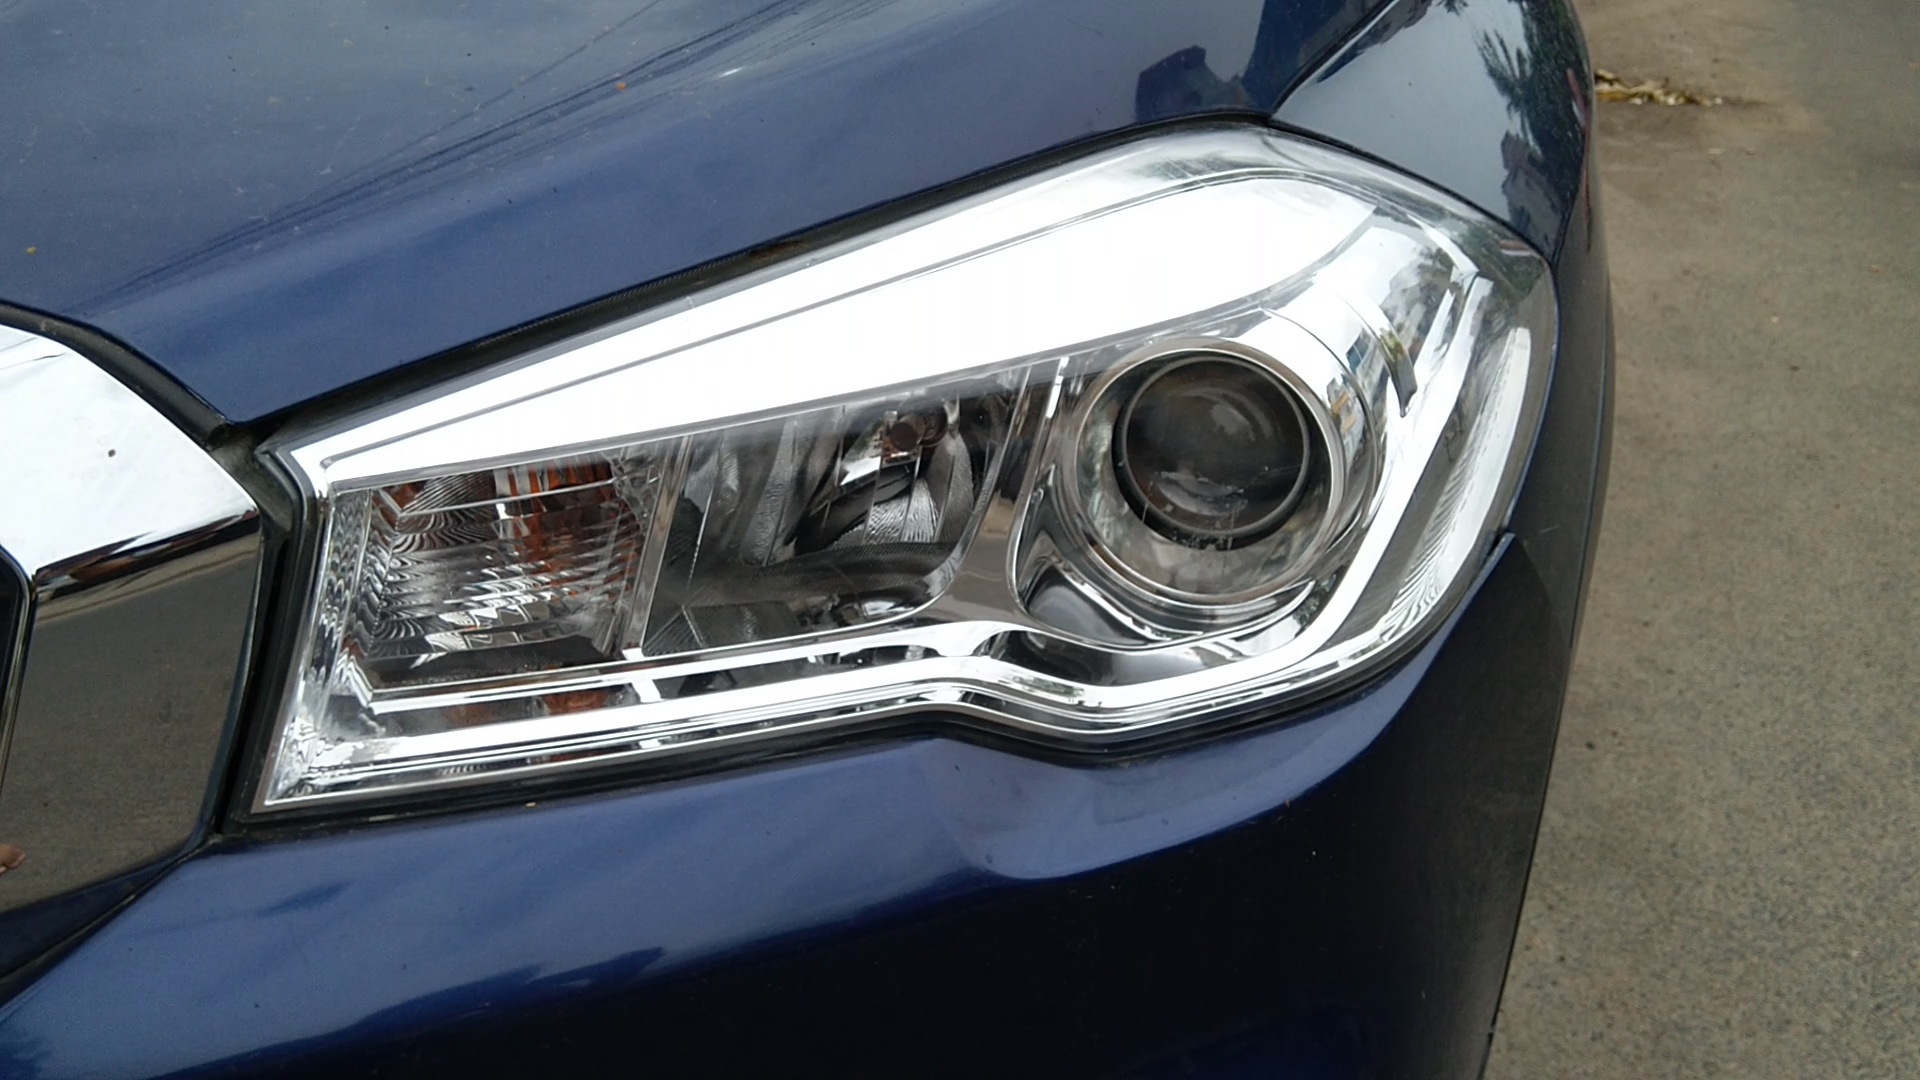headlamp: (171, 92, 1592, 955)
